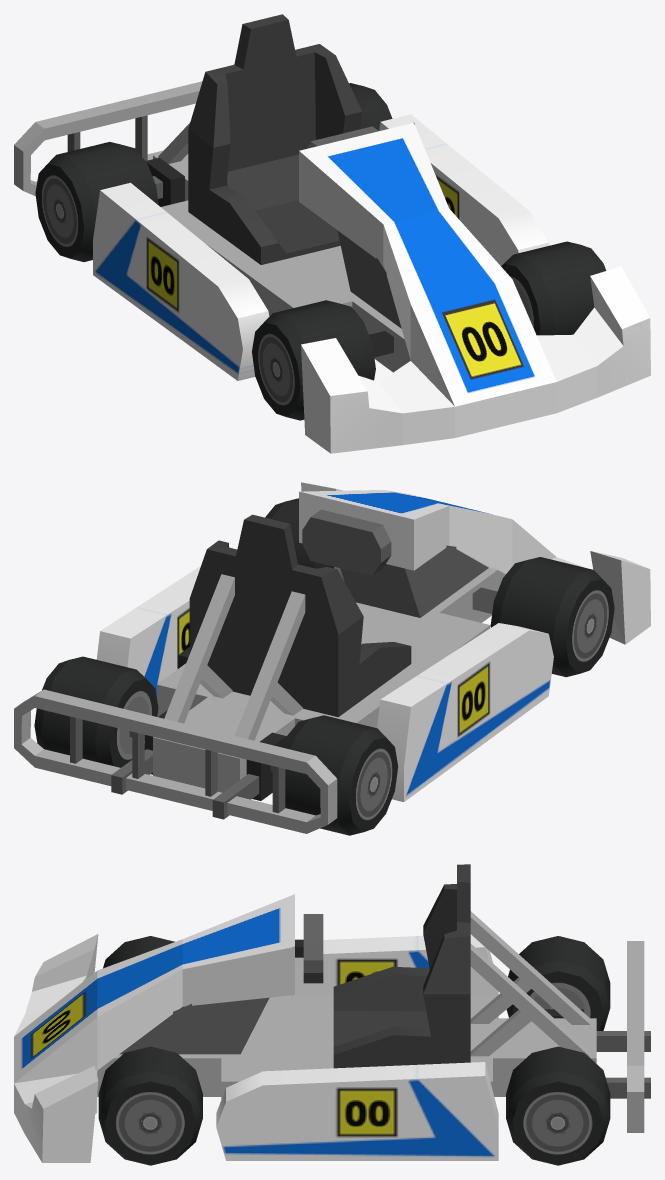
Rendered from RaceKart.fbx.
3 renders of one model, top to bottom at view 1: azimuth 30°, elevation 25°; view 2: azimuth 150°, elevation 25°; view 3: azimuth 270°, elevation 25°, orthographic. The views are drawn at different scales.
Parts seen in each view (by area): view 1: RaceKart, TireBR, TireFR, TireFL, TireBL; view 2: RaceKart, TireFR, TireBR, TireBL, TireFL; view 3: RaceKart, TireFL, TireBL, TireBR, TireFR.
Part boxes in pixels (left/top/right/bottom): RaceKart: left=14, top=14, right=650, bottom=453; TireBR: left=35, top=142, right=158, bottom=261; TireFR: left=252, top=300, right=375, bottom=420; TireFL: left=501, top=241, right=606, bottom=335; TireBL: left=349, top=83, right=392, bottom=130; RaceKart: left=14, top=482, right=650, bottom=833; TireFR: left=490, top=557, right=614, bottom=677; TireBR: left=282, top=715, right=398, bottom=835; TireBL: left=34, top=656, right=158, bottom=767; TireFL: left=265, top=498, right=344, bottom=581; RaceKart: left=14, top=864, right=650, bottom=1162; TireFL: left=98, top=1046, right=202, bottom=1165; TireBL: left=506, top=1046, right=610, bottom=1165; TireBR: left=506, top=936, right=610, bottom=1030; TireFR: left=103, top=936, right=174, bottom=968.
Bounding box in the file's own units: 98.46 × 69.95 × 180.
